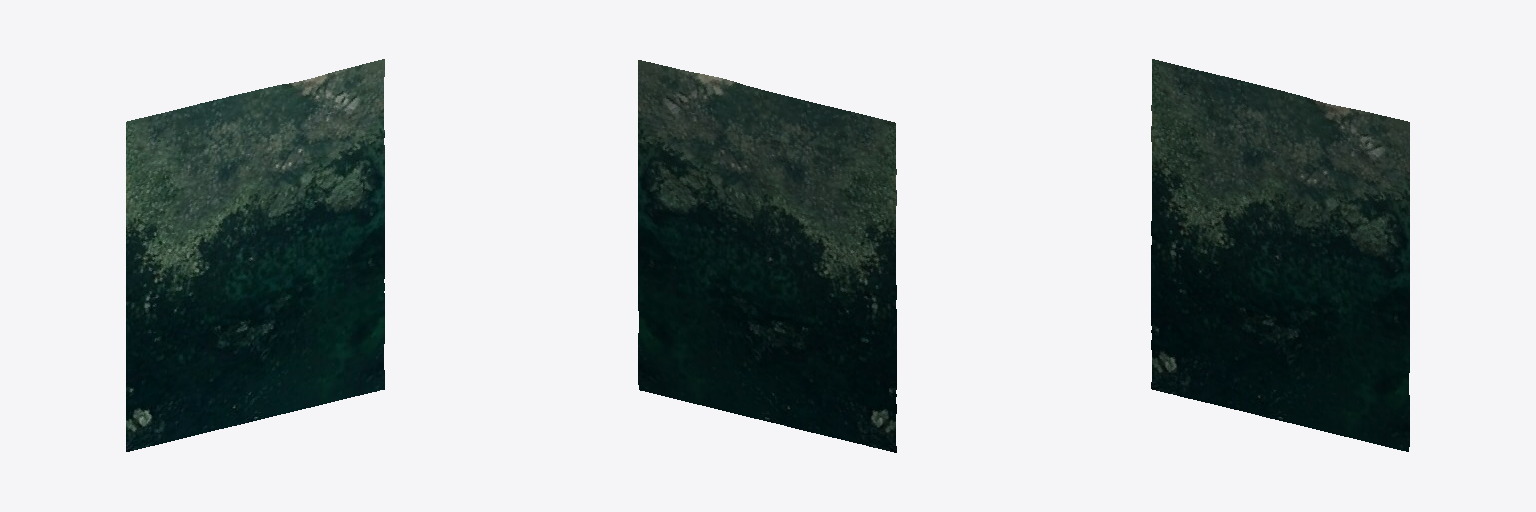
3 renders of one model, left to right at view 1: azimuth 30°, elevation 25°; view 2: azimuth 150°, elevation 25°; view 3: azimuth 330°, elevation 25°, orthographic.
Visible parts, largest first — view 1: 281395_113915; view 2: 281395_113915; view 3: 281395_113915.
Boxes of the visible parts, x1=… form: 281395_113915: x1=126, y1=59, x2=384, y2=451; 281395_113915: x1=638, y1=60, x2=896, y2=452; 281395_113915: x1=1151, y1=59, x2=1409, y2=451.
Bounding box in the file's own units: 122 × 150 × 2.05.
Materials: 1 (1 with a texture image).